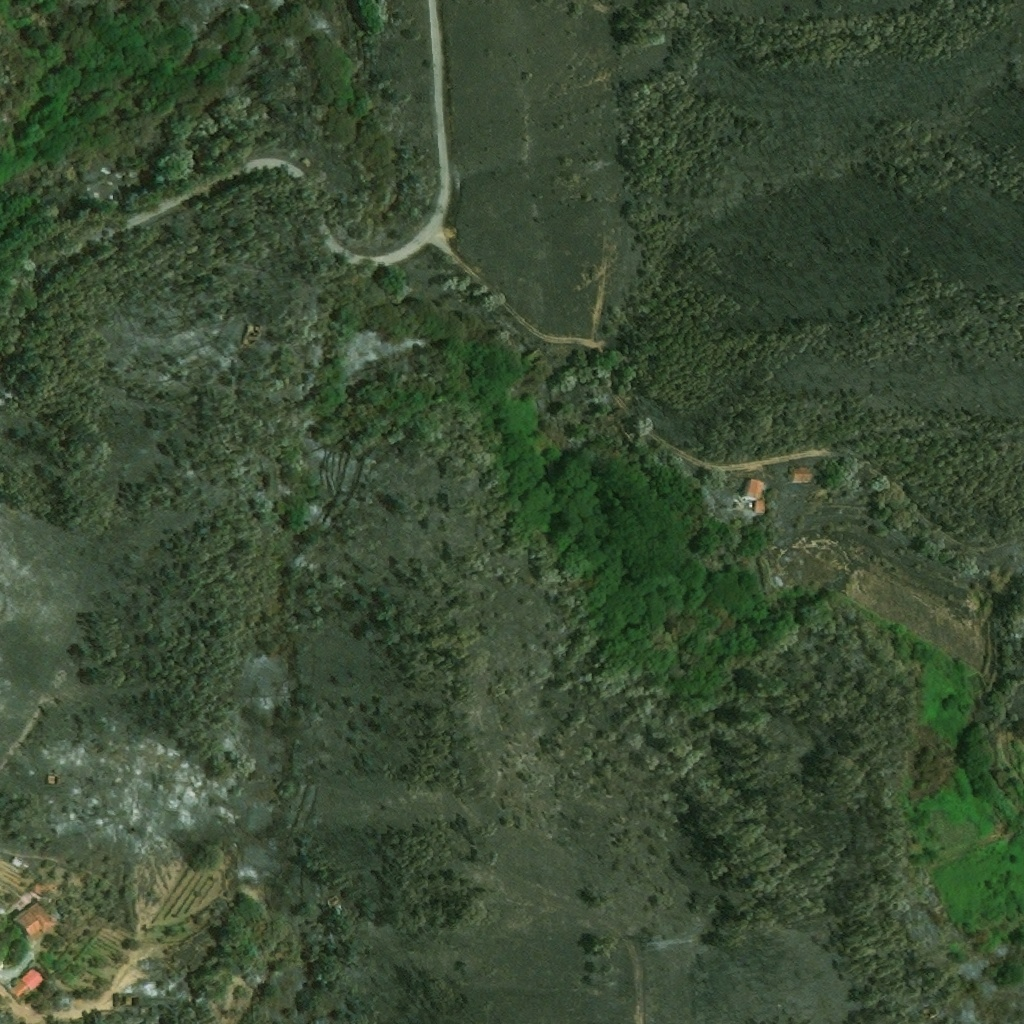0 no-damage: (12, 901, 53, 942), (8, 968, 43, 1004), (741, 476, 765, 501), (790, 467, 812, 483), (753, 501, 765, 514)
